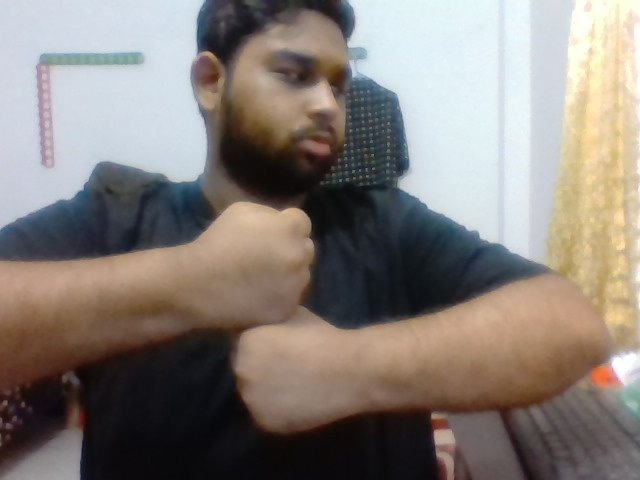G: (193, 194, 342, 440)
